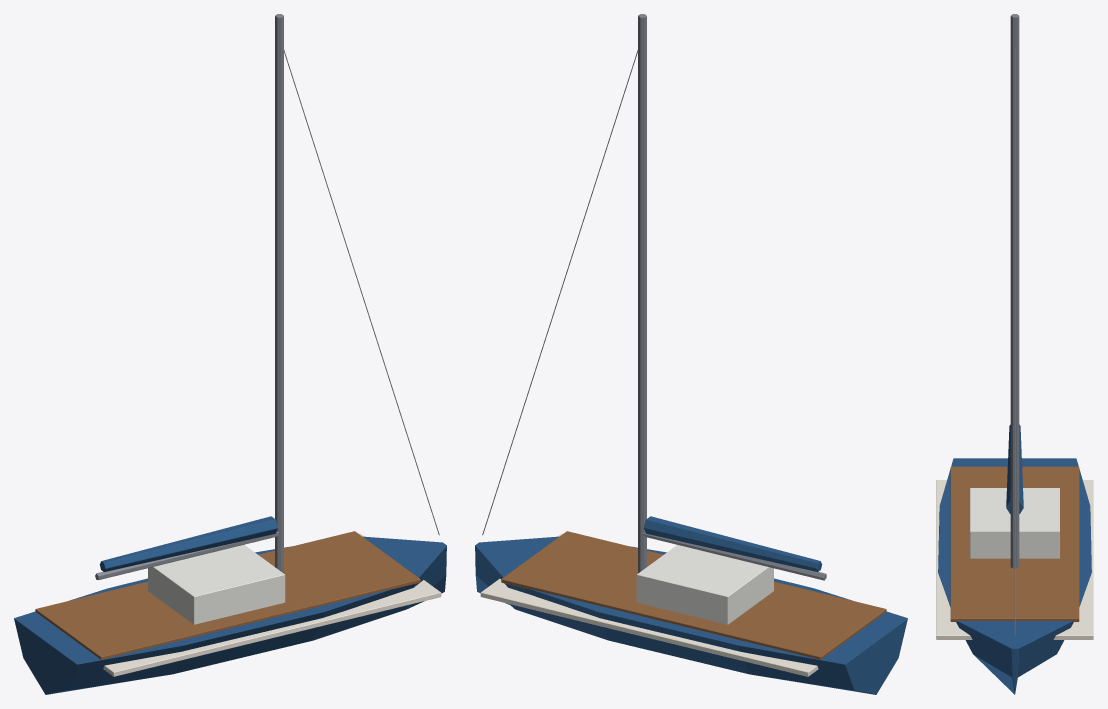
File: segelbat_bla.glb
3 views of the same model, side by side, from view 1: azimuth 30°, elevation 25°; view 2: azimuth 150°, elevation 25°; view 3: azimuth 270°, elevation 25° (orthographic). The views are drawn at different scales.
Parts seen in each view (by area): view 1: segelbat_bla; view 2: segelbat_bla; view 3: segelbat_bla.
Boxes of the visible parts, left/top/right/bottom form: segelbat_bla: left=14, top=14, right=446, bottom=694; segelbat_bla: left=475, top=14, right=907, bottom=694; segelbat_bla: left=936, top=14, right=1093, bottom=694.
Bounding box in the file's own units: 7 × 10.55 × 2.45.
